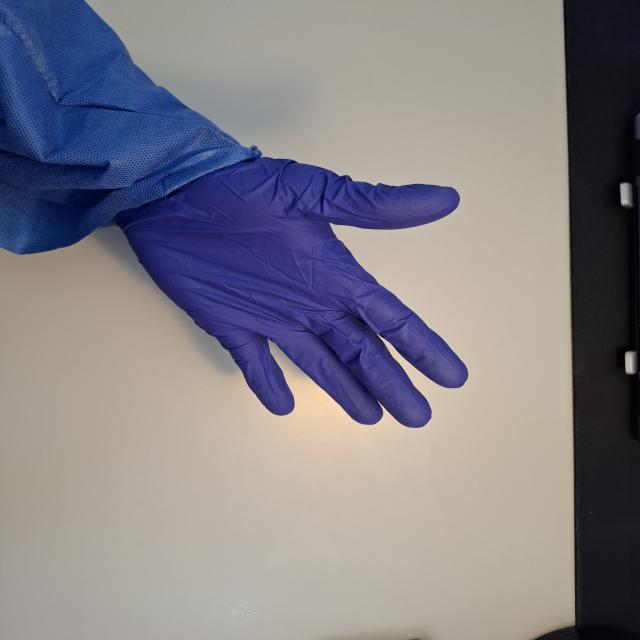glove_on: (109, 148, 474, 428)
